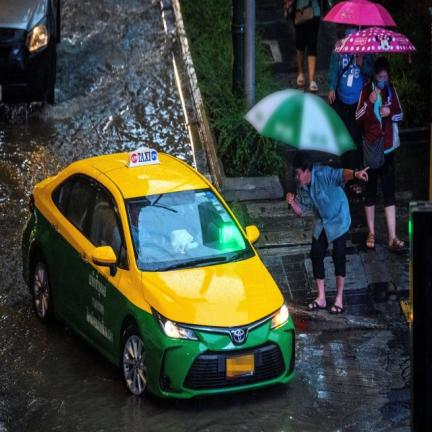car: (23, 148, 294, 397)
human: (286, 151, 367, 313), (356, 57, 404, 249), (328, 52, 373, 169), (292, 0, 322, 91), (347, 180, 362, 194), (346, 26, 356, 34)
pickup: (0, 0, 59, 103)
